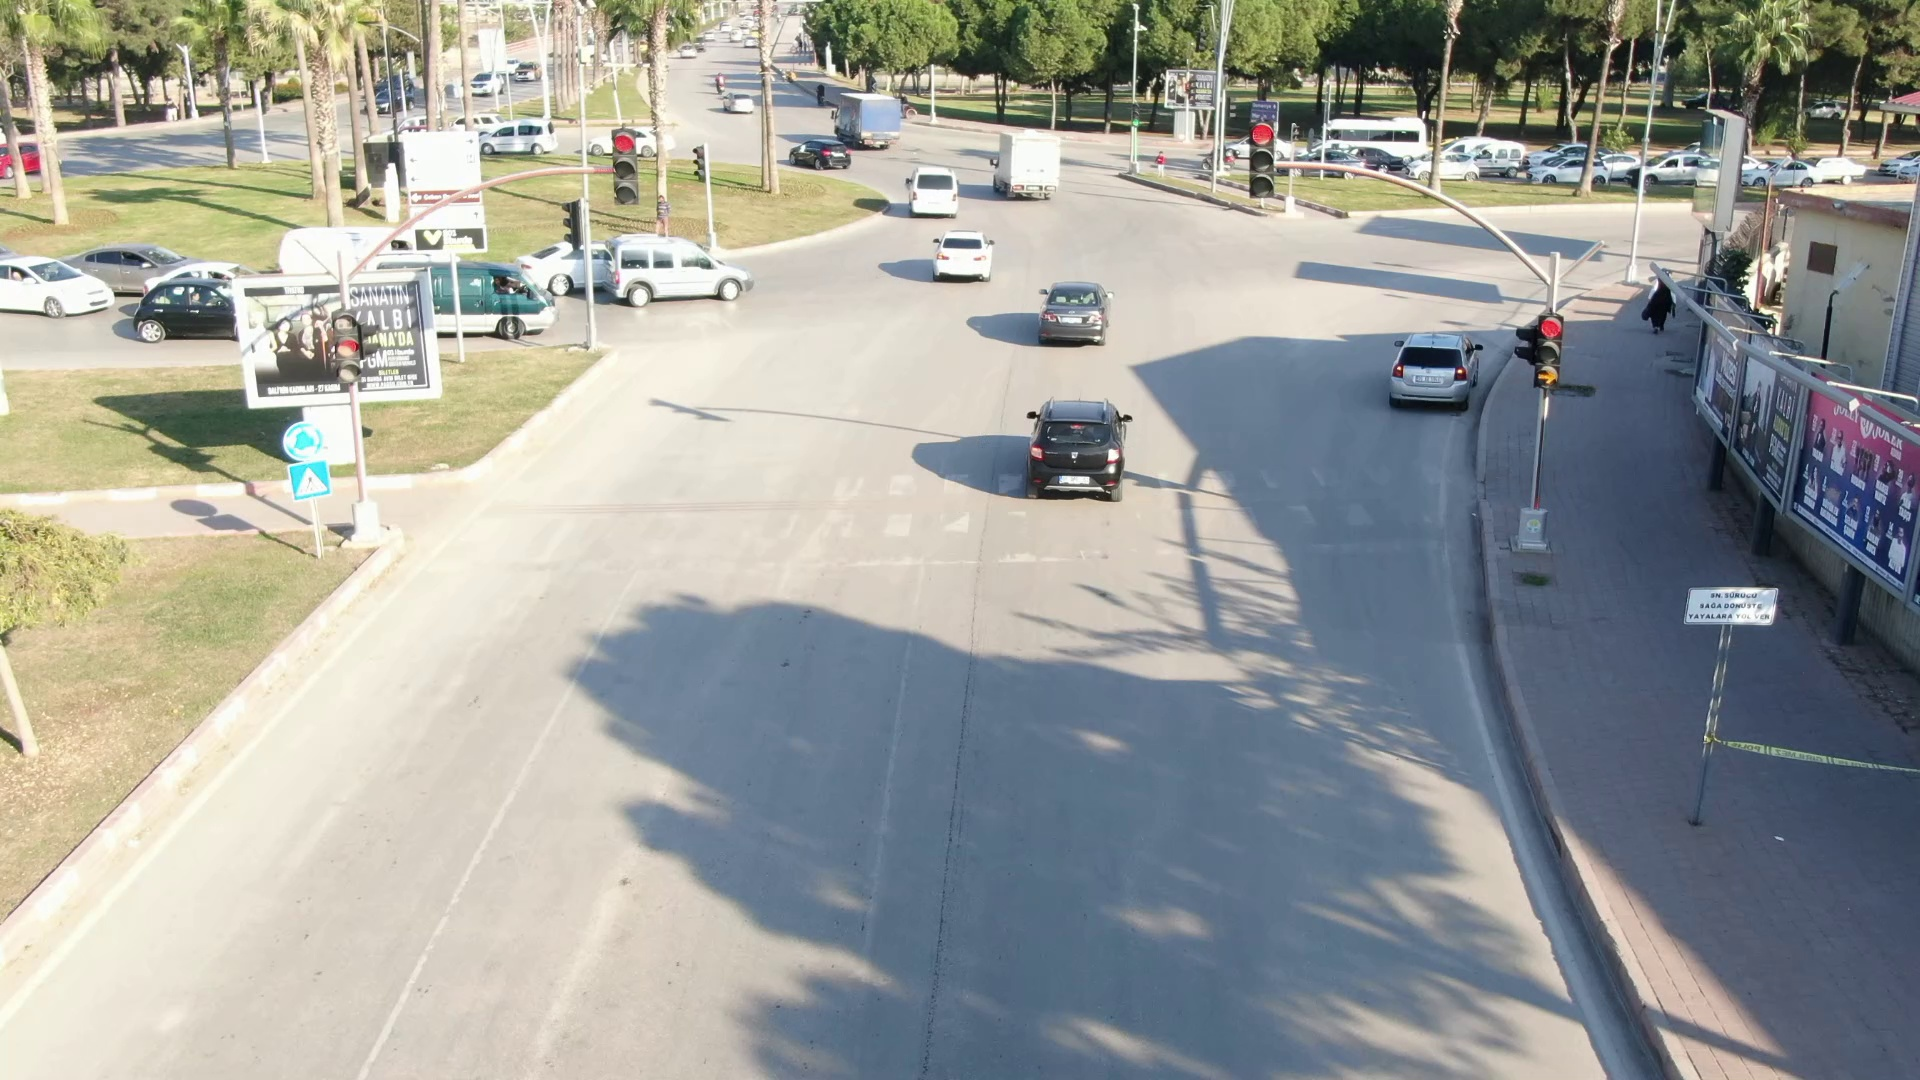car: (1001, 384, 1163, 523), (601, 224, 774, 319), (1380, 316, 1500, 417), (980, 115, 1073, 209), (1023, 269, 1129, 348), (818, 79, 905, 159), (922, 217, 1009, 293), (895, 157, 975, 220), (1520, 151, 1623, 195), (474, 109, 562, 159), (784, 133, 859, 181)
person: (1638, 242, 1681, 343)
